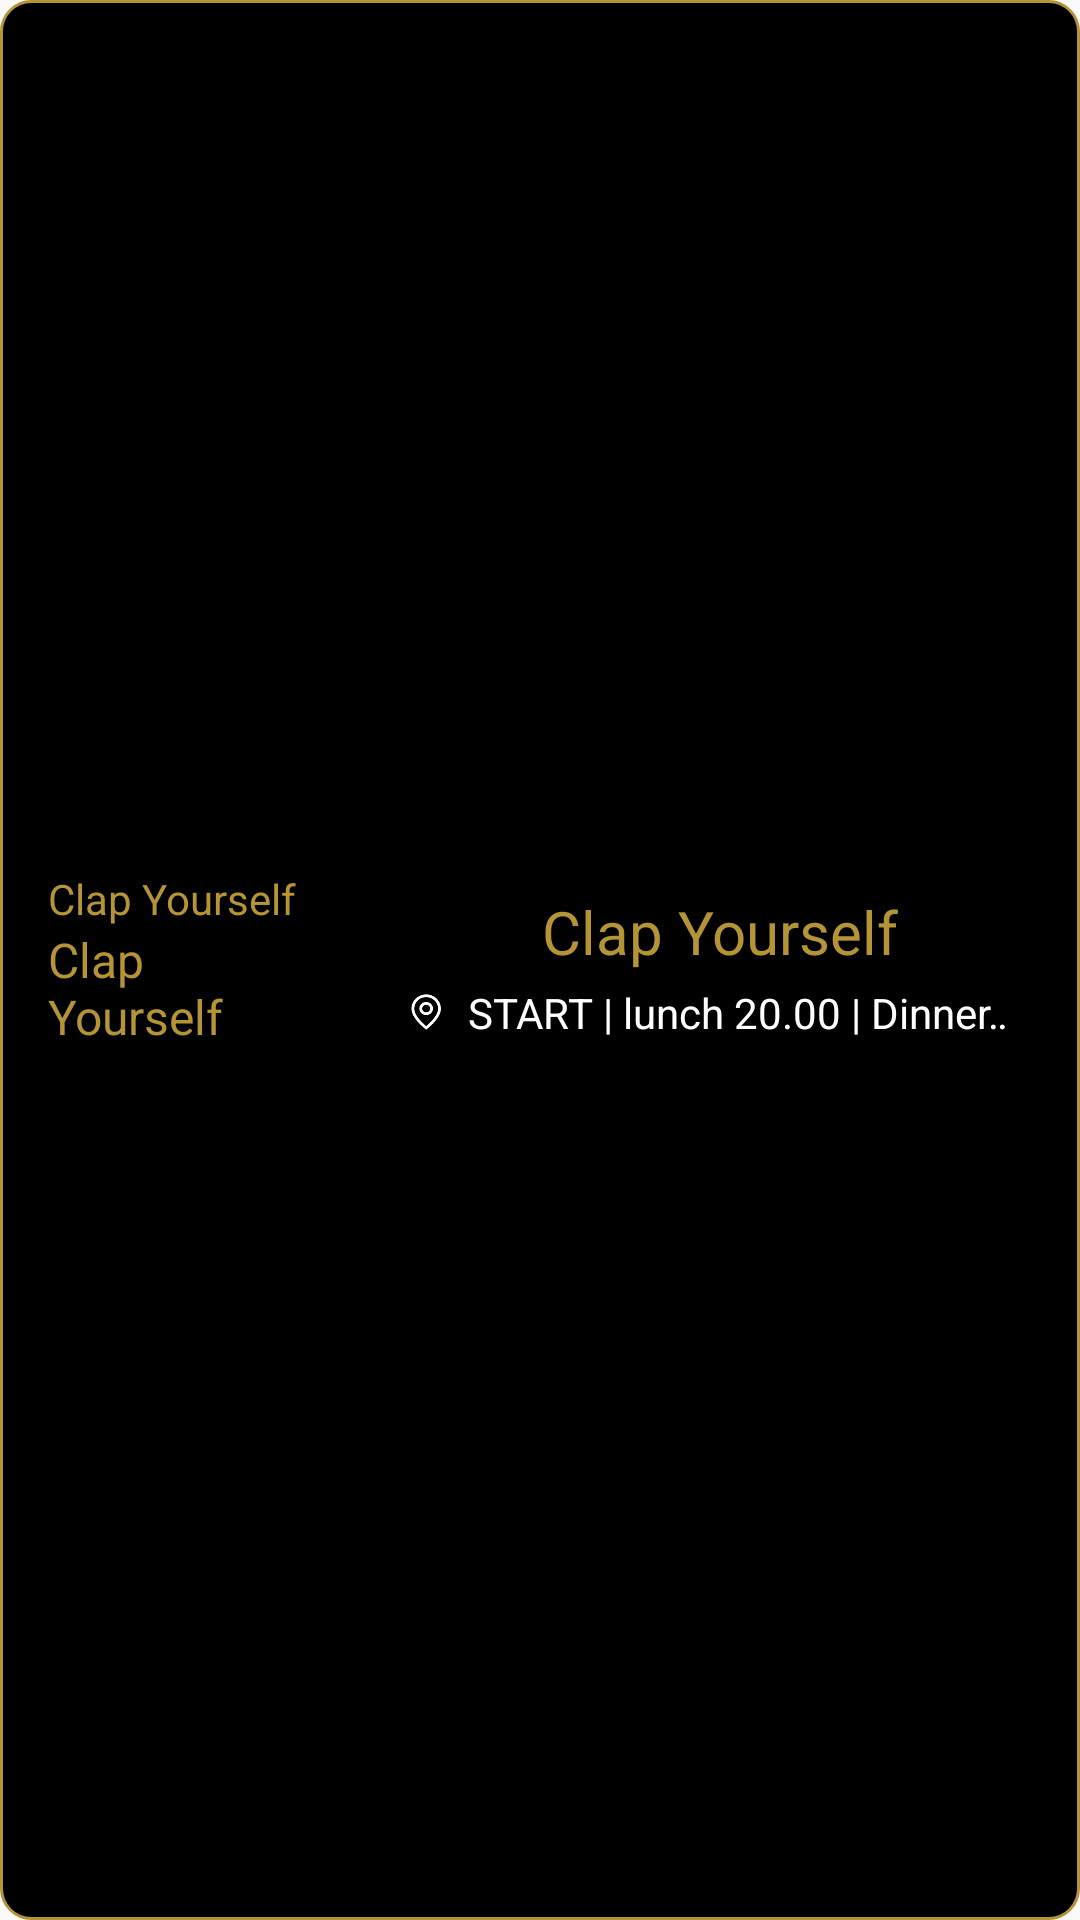

Screen size 1080w x 1920h. Icon name, then its box in pixels as (x1, y1, x2, y2):
place: (411, 994, 441, 1030)
